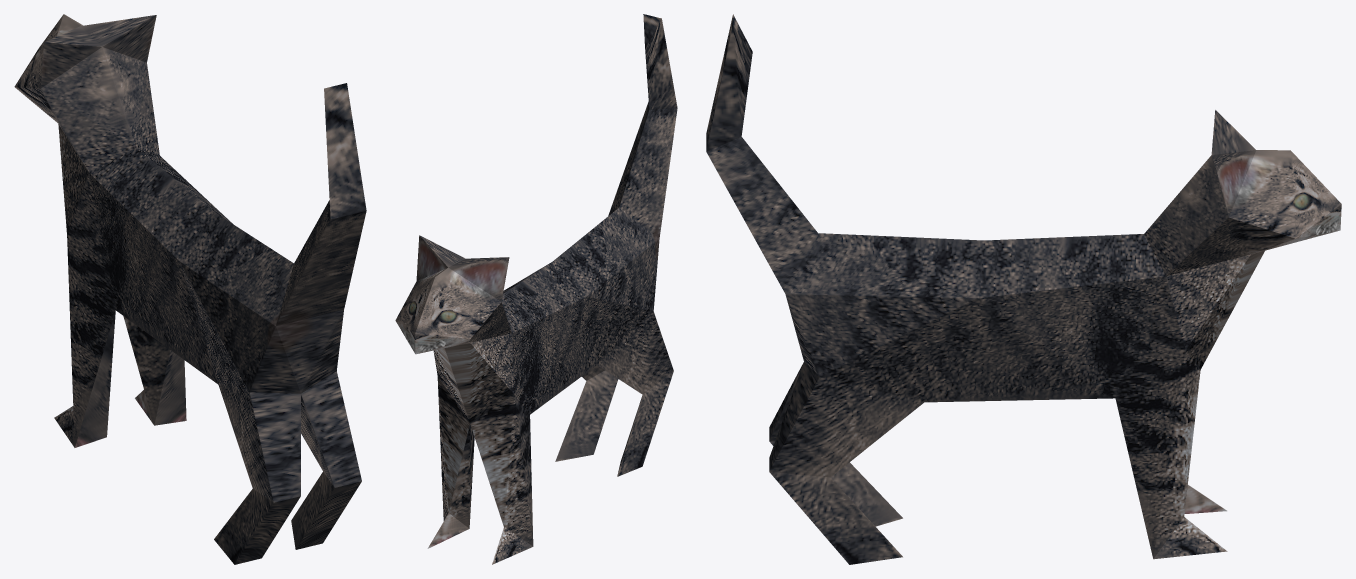
The model's file is cat_v2.glb.
3 renders of one model, left to right at view 1: azimuth 30°, elevation 25°; view 2: azimuth 150°, elevation 25°; view 3: azimuth 270°, elevation 25°, orthographic. The views are drawn at different scales.
Parts seen in each view (by area): view 1: body, head, leg-front-left, tail, leg-back-left, leg-back-right, leg-front-right; view 2: body, head, tail, leg-front-left, leg-back-left, leg-back-right, leg-front-right; view 3: body, head, tail, leg-front-right, leg-back-right, leg-back-left.
Part boxes in pixels (box(x1,y1,x2,y2)): body: box(41, 64, 366, 502); head: box(14, 14, 156, 234); leg-front-left: box(54, 235, 115, 447); tail: box(276, 83, 366, 325); leg-back-left: box(214, 393, 300, 564); leg-back-right: box(291, 394, 361, 549); leg-front-right: box(123, 316, 186, 425); body: box(437, 207, 659, 526); head: box(395, 235, 514, 422); tail: box(608, 14, 677, 238); leg-front-left: box(480, 395, 533, 564); leg-back-left: box(617, 312, 673, 476); leg-back-right: box(555, 365, 618, 461); leg-front-right: box(427, 378, 474, 548); body: box(769, 217, 1228, 513); head: box(1144, 110, 1341, 369); tail: box(706, 14, 817, 293); leg-front-right: box(1115, 351, 1227, 559); leg-back-right: box(769, 365, 902, 564); leg-back-left: box(769, 363, 902, 526).
Bounding box in the file's own units: 0.5407 × 2.34 × 2.57.
1 material, 1 textured.
